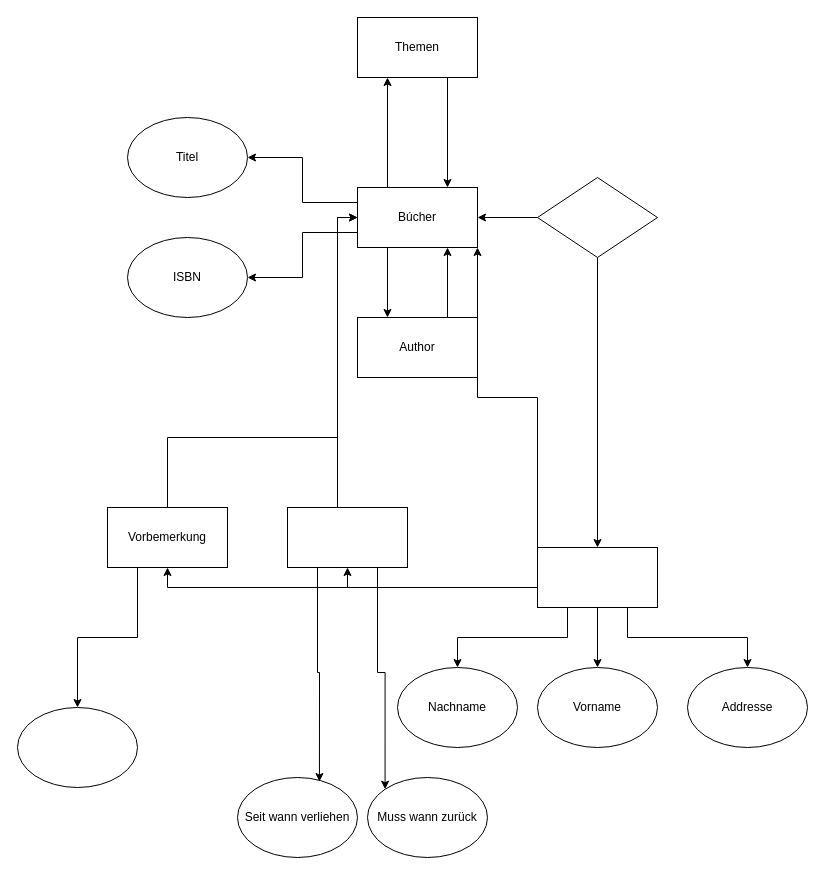
Some shapes in this 825 by 875 pixel diagram are drawn without their labels. Here are the shapes that lost their labels. From the top down, the centre of each, then its label:
At [597,217]: "Bücherei".
At [347,537]: "Ausgeliehen".
At [597,577]: "Kunde".
At [77,747]: "seit wann".
